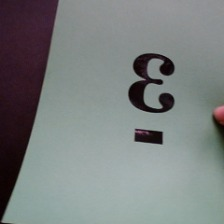green3: (124, 48, 181, 153)
